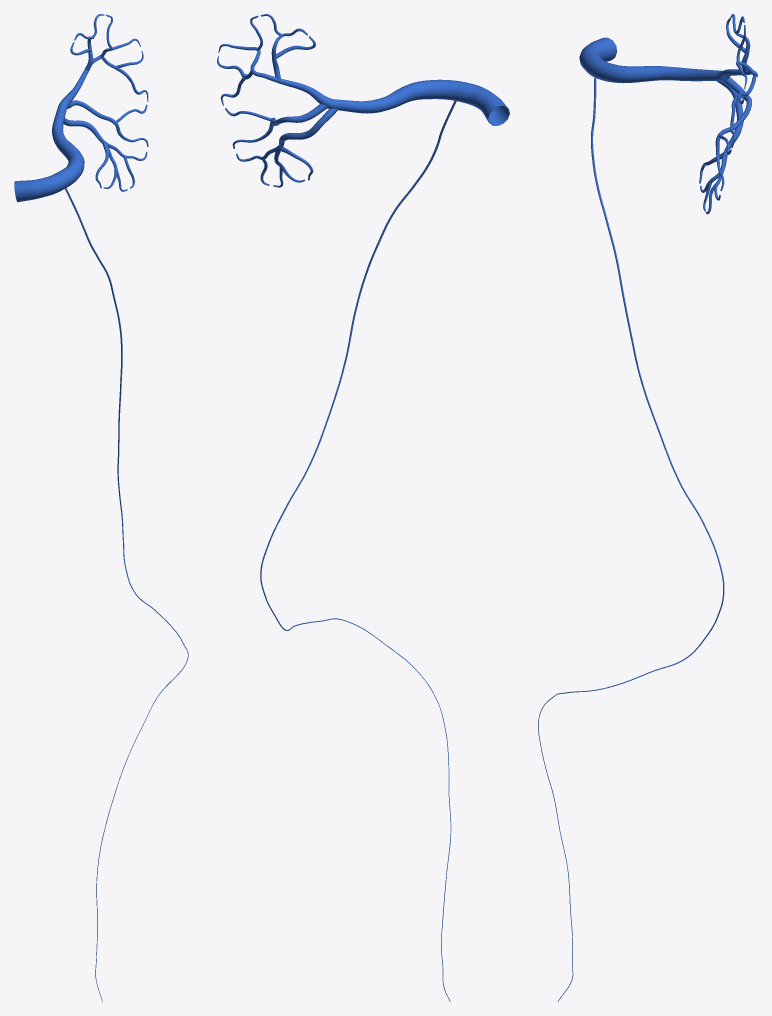
Rendered from circulatorio-left-renal-vein.glb.
The picture shows the model from 3 angles, left to right: view 1: azimuth 30°, elevation 25°; view 2: azimuth 150°, elevation 25°; view 3: azimuth 270°, elevation 25°; orthographic projection. The views are drawn at different scales.
Visible parts, largest first — view 1: Intrarenal veins of left kidney, Left renal vein, Left testicular vein; view 2: Intrarenal veins of left kidney, Left renal vein, Left testicular vein; view 3: Intrarenal veins of left kidney, Left renal vein, Left testicular vein.
Part boxes in pixels (bbox=[...]): Intrarenal veins of left kidney: bbox=[52, 14, 148, 191]; Left renal vein: bbox=[14, 132, 84, 202]; Left testicular vein: bbox=[65, 188, 188, 1001]; Intrarenal veins of left kidney: bbox=[217, 14, 384, 187]; Left renal vein: bbox=[379, 79, 509, 125]; Left testicular vein: bbox=[260, 101, 456, 1001]; Intrarenal veins of left kidney: bbox=[674, 14, 757, 214]; Left renal vein: bbox=[579, 37, 676, 83]; Left testicular vein: bbox=[538, 77, 724, 1001].
Size of the model in its own units: 0.0938 by 0.4215 by 0.0817.
